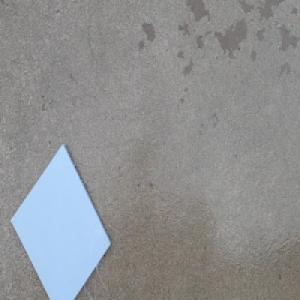PaintChip: (10, 142, 111, 300)
